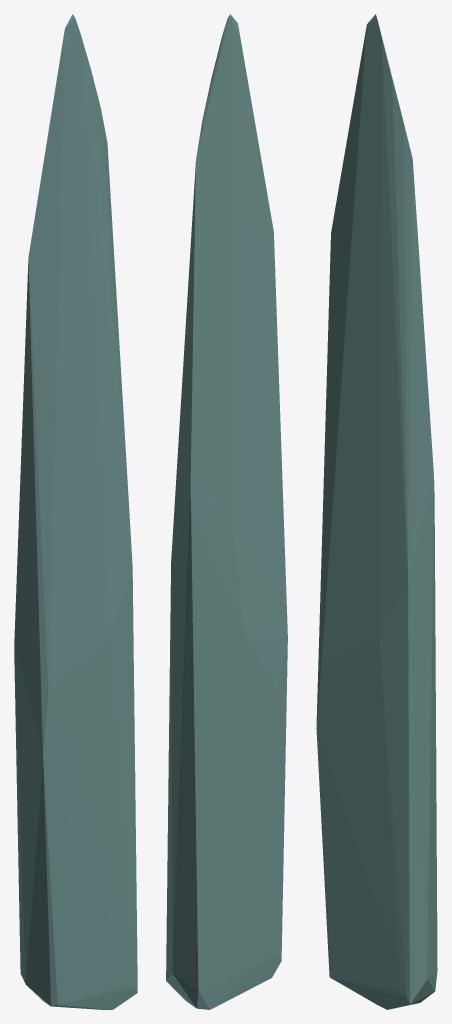
The model's file is kitchenware_knife_d01.glb.
3 views of the same model, side by side, from view 1: azimuth 30°, elevation 25°; view 2: azimuth 210°, elevation 25°; view 3: azimuth 330°, elevation 25° (orthographic).
Visible parts, largest first — view 1: geometry_0; view 2: geometry_0; view 3: geometry_0.
Part boxes in pixels (x1,y1,x2,y2): geometry_0: (14, 14, 137, 1009); geometry_0: (166, 14, 287, 1009); geometry_0: (316, 14, 437, 1009).
Size of the model in its own units: 0.0505 by 0.4796 by 0.0272.
